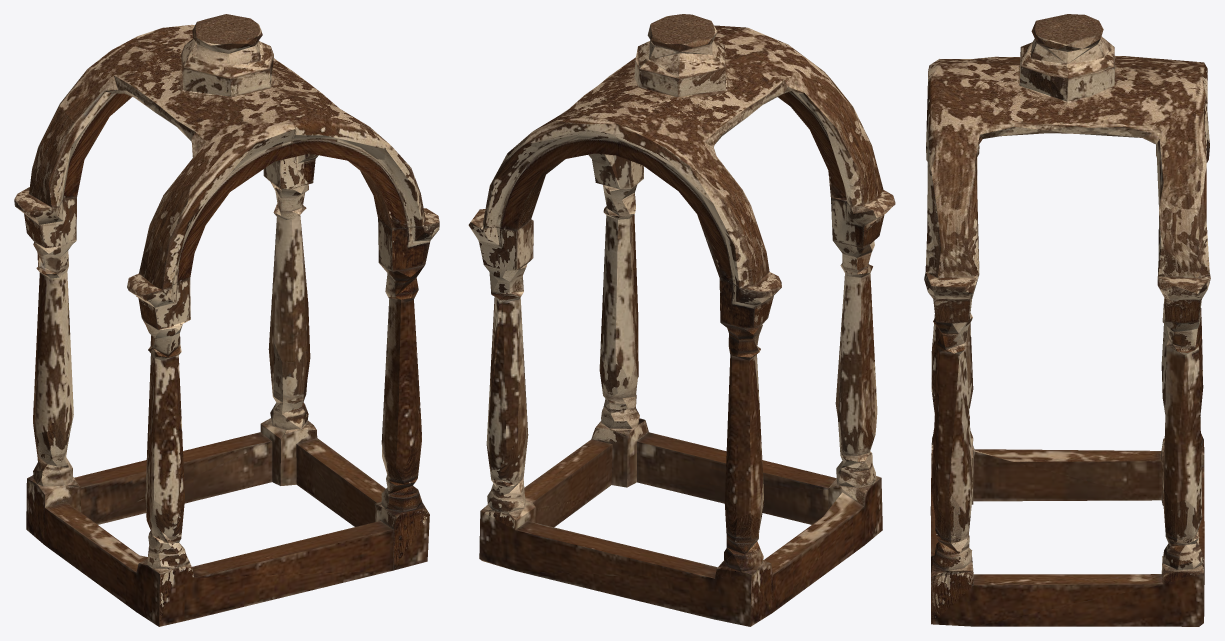
The model's file is belfry.glb.
3 renders of one model, left to right at view 1: azimuth 30°, elevation 25°; view 2: azimuth 150°, elevation 25°; view 3: azimuth 270°, elevation 25°, orthographic. The views are drawn at different scales.
Visible parts, largest first — view 1: Mesh_0; view 2: Mesh_0; view 3: Mesh_0.
Part boxes in pixels (bbox=[...]): Mesh_0: bbox=[14, 14, 439, 626]; Mesh_0: bbox=[468, 14, 895, 626]; Mesh_0: bbox=[924, 14, 1210, 626].
Size of the model in its own units: 0.9106 by 1.5 by 0.7313.
1 material, 1 textured.
